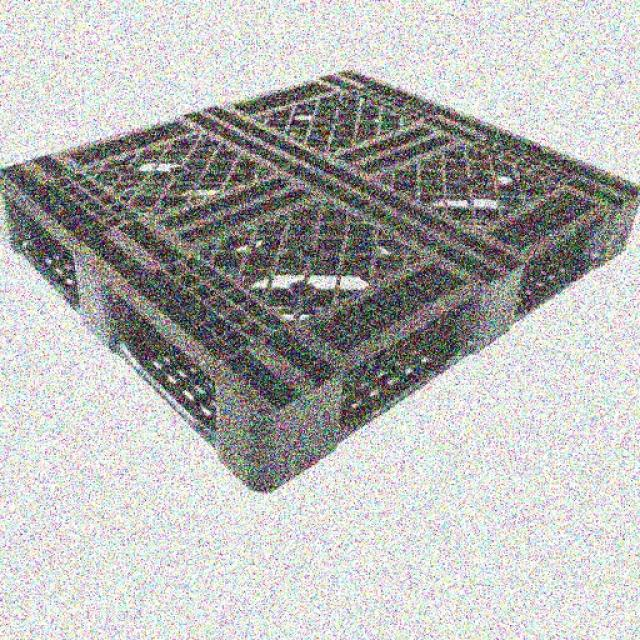non-igps: (0, 64, 640, 500)
